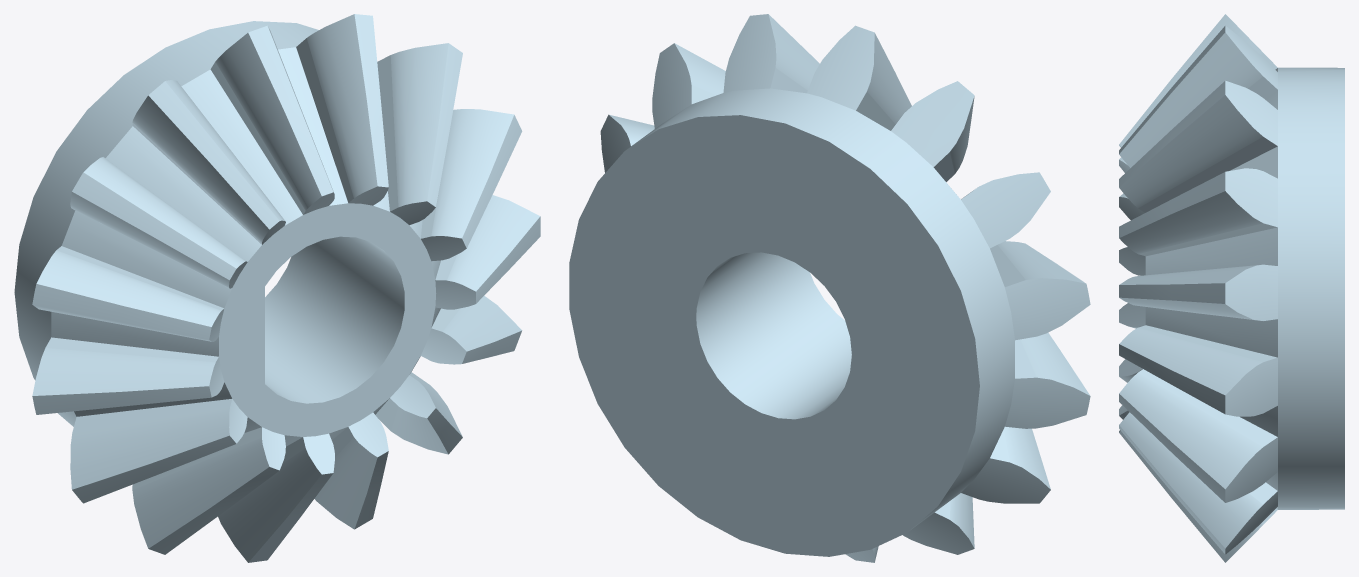
File: A_H_4_Motor_Gear.gltf
3 renders of one model, left to right at view 1: azimuth 30°, elevation 25°; view 2: azimuth 150°, elevation 25°; view 3: azimuth 270°, elevation 25°, orthographic. The views are drawn at different scales.
Parts seen in each view (by area): view 1: mesh32056, mesh32053, mesh32162, mesh32105, mesh32159, mesh32151, mesh32097, mesh32113, mesh32164, mesh32143, mesh32122, mesh32121 (+44 smaller); view 2: mesh32052, mesh32162, mesh32053, mesh32125, mesh32133, mesh32117, mesh32141, mesh32109, mesh32149, mesh32101, mesh32157, mesh32143 (+10 smaller); view 3: mesh32162, mesh32064, mesh32153, mesh32145, mesh32071, mesh32172, mesh32161, mesh32154, mesh32170, mesh32166, mesh32157, mesh32173 (+26 smaller).
Part boxes in pixels (x1=…): mesh32056: x1=219, y1=203, x2=436, y2=436; mesh32053: x1=265, y1=236, x2=404, y2=403; mesh32162: x1=14, y1=21, x2=318, y2=426; mesh32105: x1=70, y1=407, x2=229, y2=489; mesh32159: x1=390, y1=43, x2=448, y2=207; mesh32151: x1=307, y1=14, x2=377, y2=197; mesh32097: x1=132, y1=437, x2=269, y2=548; mesh32113: x1=32, y1=348, x2=215, y2=395; mesh32164: x1=431, y1=109, x2=513, y2=238; mesh32143: x1=215, y1=33, x2=321, y2=210; mesh32122: x1=105, y1=126, x2=261, y2=261; mesh32121: x1=36, y1=250, x2=221, y2=326; mesh32052: x1=569, y1=115, x2=979, y2=556; mesh32162: x1=627, y1=88, x2=1014, y2=530; mesh32053: x1=696, y1=252, x2=851, y2=419; mesh32125: x1=961, y1=172, x2=1050, y2=248; mesh32133: x1=891, y1=81, x2=974, y2=166; mesh32117: x1=1005, y1=278, x2=1090, y2=340; mesh32141: x1=807, y1=25, x2=874, y2=110; mesh32109: x1=1005, y1=377, x2=1090, y2=428; mesh32149: x1=723, y1=14, x2=776, y2=92; mesh32101: x1=961, y1=458, x2=1050, y2=503; mesh32157: x1=652, y1=43, x2=691, y2=128; mesh32143: x1=867, y1=33, x2=911, y2=124; mesh32162: x1=1278, y1=67, x2=1344, y2=509; mesh32064: x1=1119, y1=372, x2=1262, y2=489; mesh32153: x1=1119, y1=95, x2=1262, y2=207; mesh32145: x1=1119, y1=32, x2=1262, y2=167; mesh32071: x1=1119, y1=412, x2=1262, y2=548; mesh32172: x1=1119, y1=327, x2=1262, y2=395; mesh32161: x1=1119, y1=191, x2=1262, y2=253; mesh32154: x1=1145, y1=227, x2=1277, y2=275; mesh32170: x1=1145, y1=307, x2=1277, y2=357; mesh32166: x1=1225, y1=264, x2=1277, y2=320; mesh32157: x1=1225, y1=168, x2=1277, y2=227; mesh32173: x1=1225, y1=357, x2=1277, y2=416.
Bounding box in the file's own units: 0.0163 × 0.0164 × 0.00675.
